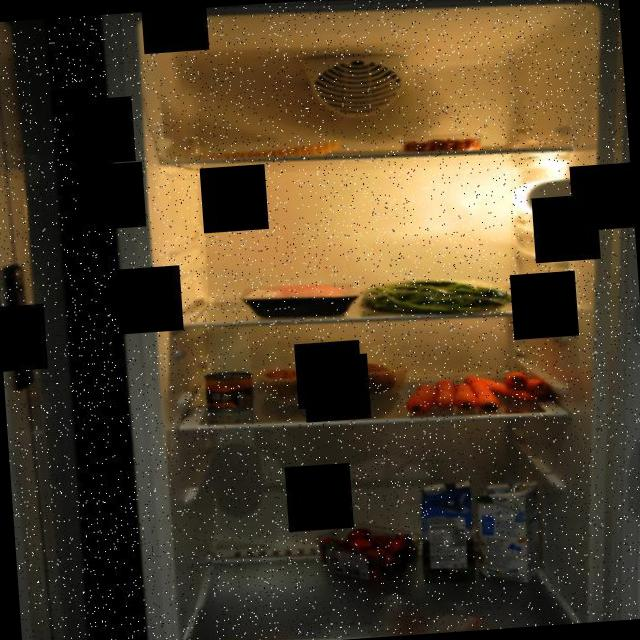Gambas/Langostinos: (396, 130, 484, 156)
Leche: (471, 478, 547, 587), (416, 474, 480, 586)
Patata: (264, 354, 404, 408)
Zanahoria: (402, 362, 558, 422)
